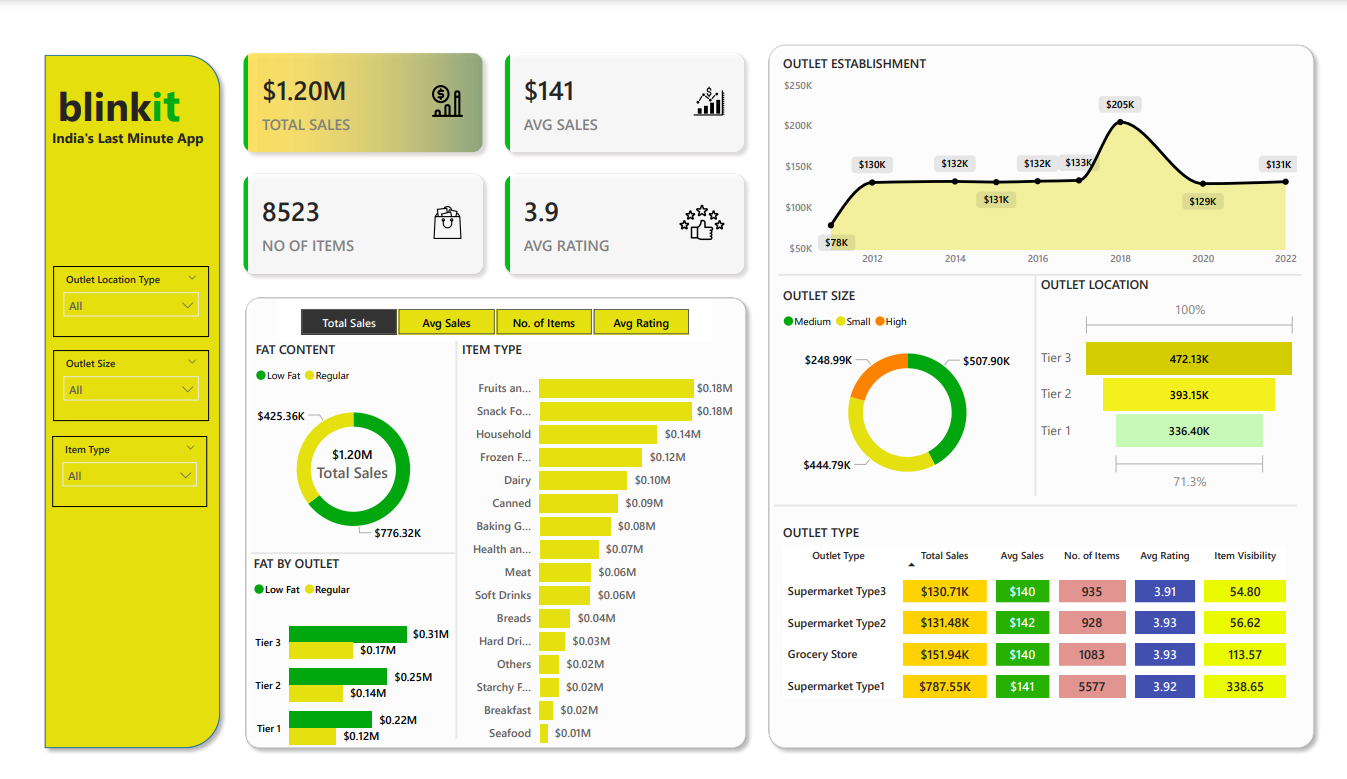

The page's visual inventory and layout, read from the dashboard file:
{"tool":"powerbi","page":{"name":"Page 1","canvas":[1400,800],"ordinal":0},"visuals":[{"type":"shape","box":[15.9,28.3,205,760],"z":0},{"type":"textbox","box":[33.6,51.3,167.9,83.1],"z":1},{"type":"textbox","box":[28.3,109.6,182,44.2],"z":2},{"type":"cardVisual","fields":{"Data":["BlinkIT Grocery Data.Total Sales","BlinkIT Grocery Data.Average Sales","BlinkIT Grocery Data.No. of Items","BlinkIT Grocery Data.Avg Rating"]},"box":[220.9,17.7,570.9,270.4],"z":3},{"type":"shape","box":[231.5,288.1,553.2,500.2],"z":4},{"type":"donutChart","title":"FAT CONTENT","fields":{"Category":["BlinkIT Grocery Data.Item Fat Content"],"Y":["BlinkIT Grocery Data.Total Sales"]},"box":[245.7,342.9,219.2,229.8],"z":5},{"type":"slicer","fields":{"Values":["Metrics.Metrics"]},"box":[273.9,302.2,464.8,40.6],"z":6},{"type":"cardVisual","fields":{"Data":["BlinkIT Grocery Data.Total Sales"]},"box":[298.7,438.3,111.3,70.7],"z":7},{"type":"clusteredBarChart","title":"FAT BY OUTLET","fields":{"Y":["BlinkIT Grocery Data.Total Sales"],"Category":["BlinkIT Grocery Data.Outlet Location Type"],"Series":["BlinkIT Grocery Data.Item Fat Content"]},"box":[243.7,571.5,219.3,228.2],"z":8},{"type":"shape","box":[245.7,551.4,219.2,38.9],"z":9},{"type":"shape","box":[443.6,342.9,44.2,425.9],"z":10},{"type":"barChart","title":"ITEM TYPE","fields":{"Category":["BlinkIT Grocery Data.Item Type"],"Y":["BlinkIT Grocery Data.Total Sales"]},"box":[466.6,342.9,300.4,445.4],"z":11},{"type":"shape","box":[791.8,17.7,600.9,770.6],"z":12},{"type":"lineChart","title":"OUTLET ESTABLISHMENT","fields":{"Category":["BlinkIT Grocery Data.Outlet Establishment Year"],"Y":["BlinkIT Grocery Data.Total Sales"]},"box":[811.2,37.1,560.2,235.1],"z":13},{"type":"shape","box":[811.2,252.7,560.2,38.9],"z":14},{"type":"donutChart","title":"OUTLET SIZE","fields":{"Y":["BlinkIT Grocery Data.Total Sales"],"Category":["BlinkIT Grocery Data.Outlet Size"]},"box":[811.2,284.5,275.7,224.5],"z":15},{"type":"shape","box":[1063.9,272.2,44.2,236.8],"z":16},{"type":"funnel","title":"OUTLET LOCATION","fields":{"Y":["Sum(BlinkIT Grocery Data.Sales)"],"Category":["BlinkIT Grocery Data.Outlet Location Type"]},"box":[1086.9,273.9,284.5,235.1],"z":17},{"type":"shape","box":[805.9,500.2,560.2,38.9],"z":18},{"type":"pivotTable","title":"OUTLET TYPE","fields":{"Values":["BlinkIT Grocery Data.Total Sales","BlinkIT Grocery Data.Avg Sales","BlinkIT Grocery Data.No. of Items","BlinkIT Grocery Data.Avg Rating","Sum(BlinkIT Grocery Data.Item Visibility)"],"Rows":["BlinkIT Grocery Data.Outlet Type"]},"box":[811.2,539,560.2,229.8],"z":19},{"type":"slicer","fields":{"Values":["BlinkIT Grocery Data.Outlet Location Type"]},"box":[33.6,263.3,167.9,76],"z":20},{"type":"slicer","fields":{"Values":["BlinkIT Grocery Data.Outlet Size"]},"box":[33.6,353.5,167.9,76],"z":21},{"type":"slicer","fields":{"Values":["BlinkIT Grocery Data.Item Type"]},"box":[33.2,445.3,166.1,75.3],"z":22}]}

Visuals, with their boxes in screenshot pixels (x1, y1, x2, y2), scaled from the page's 1400x800 canvas onto the 1347x779 screenshot:
shape: x1=15, y1=28, x2=213, y2=768
textbox: x1=32, y1=50, x2=194, y2=131
textbox: x1=27, y1=107, x2=202, y2=150
cardVisual - BlinkIT Grocery Data.Total Sales x BlinkIT Grocery Data.Average Sales: x1=213, y1=17, x2=762, y2=281
shape: x1=223, y1=281, x2=755, y2=768
"FAT CONTENT" donutChart: x1=236, y1=334, x2=447, y2=558
slicer - Metrics.Metrics: x1=264, y1=294, x2=711, y2=334
cardVisual - BlinkIT Grocery Data.Total Sales: x1=287, y1=427, x2=394, y2=496
"FAT BY OUTLET" clusteredBarChart: x1=234, y1=556, x2=445, y2=778
shape: x1=236, y1=537, x2=447, y2=575
shape: x1=427, y1=334, x2=469, y2=749
"ITEM TYPE" barChart: x1=449, y1=334, x2=738, y2=768
shape: x1=762, y1=17, x2=1340, y2=768
"OUTLET ESTABLISHMENT" lineChart: x1=780, y1=36, x2=1319, y2=265
shape: x1=780, y1=246, x2=1319, y2=284
"OUTLET SIZE" donutChart: x1=780, y1=277, x2=1046, y2=496
shape: x1=1024, y1=265, x2=1066, y2=496
"OUTLET LOCATION" funnel: x1=1046, y1=267, x2=1319, y2=496
shape: x1=775, y1=487, x2=1314, y2=525
"OUTLET TYPE" pivotTable: x1=780, y1=525, x2=1319, y2=749
slicer - BlinkIT Grocery Data.Outlet Location Type: x1=32, y1=256, x2=194, y2=330
slicer - BlinkIT Grocery Data.Outlet Size: x1=32, y1=344, x2=194, y2=418
slicer - BlinkIT Grocery Data.Item Type: x1=32, y1=434, x2=192, y2=507
